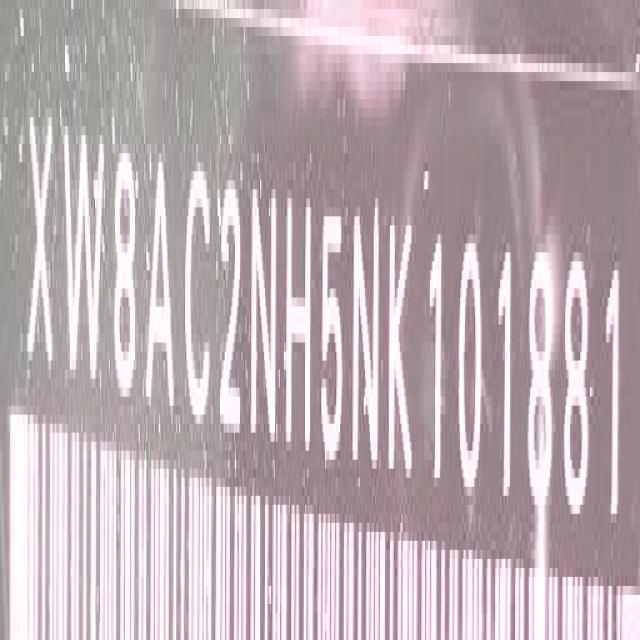0: (458, 239, 485, 508)
1: (497, 239, 519, 512), (427, 225, 444, 500), (606, 254, 622, 529)
2: (218, 178, 243, 450)
5: (320, 197, 345, 470)
8: (565, 249, 591, 526), (529, 250, 554, 518), (114, 146, 138, 409)
A: (144, 152, 174, 427)
C: (184, 170, 215, 440)
H: (286, 188, 314, 464)
K: (387, 192, 411, 470)
N: (352, 197, 383, 479), (252, 183, 279, 452)
W: (64, 110, 104, 396)
X: (26, 107, 56, 386)
